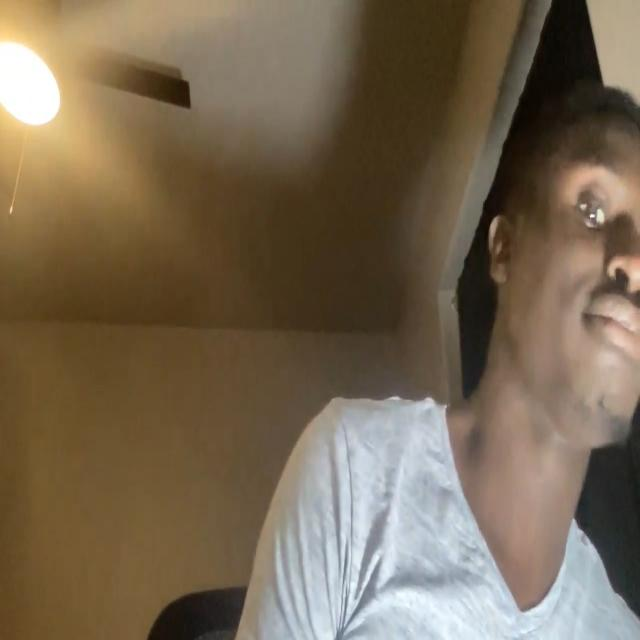face: (488, 86, 640, 446)
